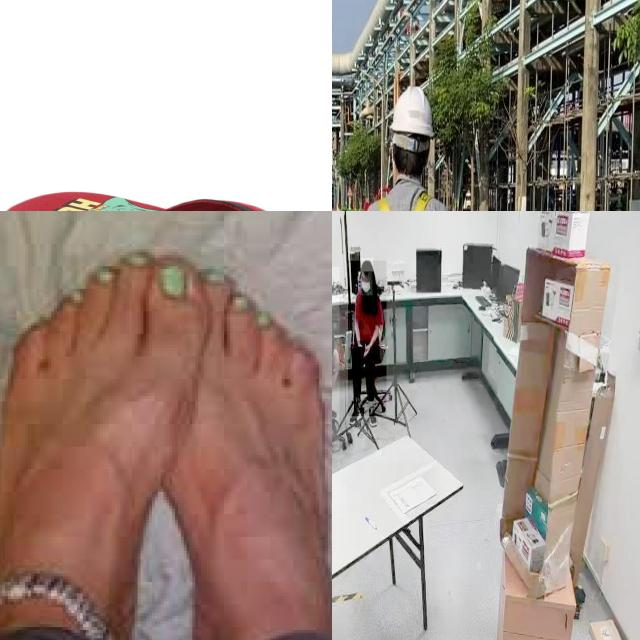Barefoots: (0, 227, 332, 640)
face_mask: (360, 272, 372, 296)
hand_noglove: (362, 342, 371, 356), (356, 341, 364, 356)
head_nohelmet: (360, 258, 374, 272)
person: (348, 261, 387, 417)
